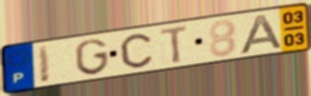8: (208, 18, 239, 59)
A: (238, 12, 286, 56)
C: (118, 32, 154, 69)
G: (73, 37, 111, 77)
I: (36, 43, 52, 85)
T: (159, 24, 191, 66)
